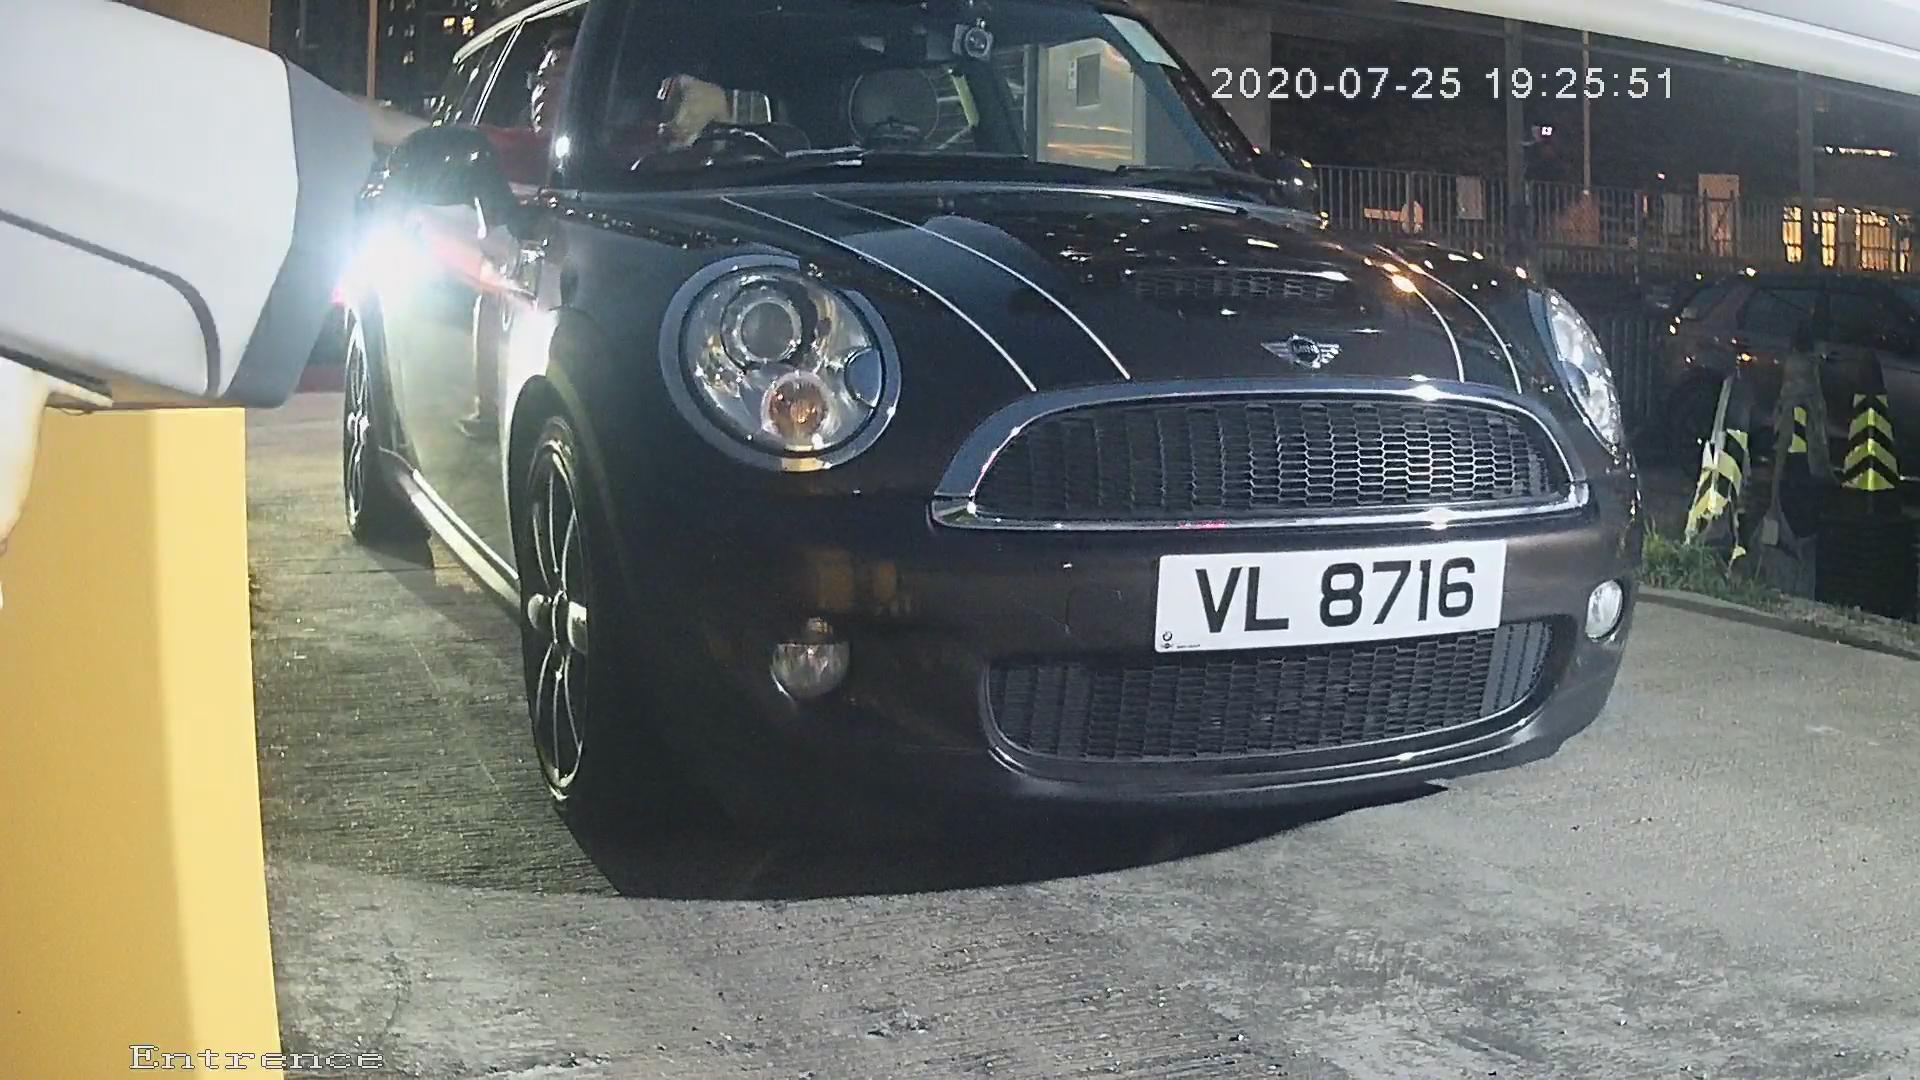privatecar: (232, 20, 1766, 873)
